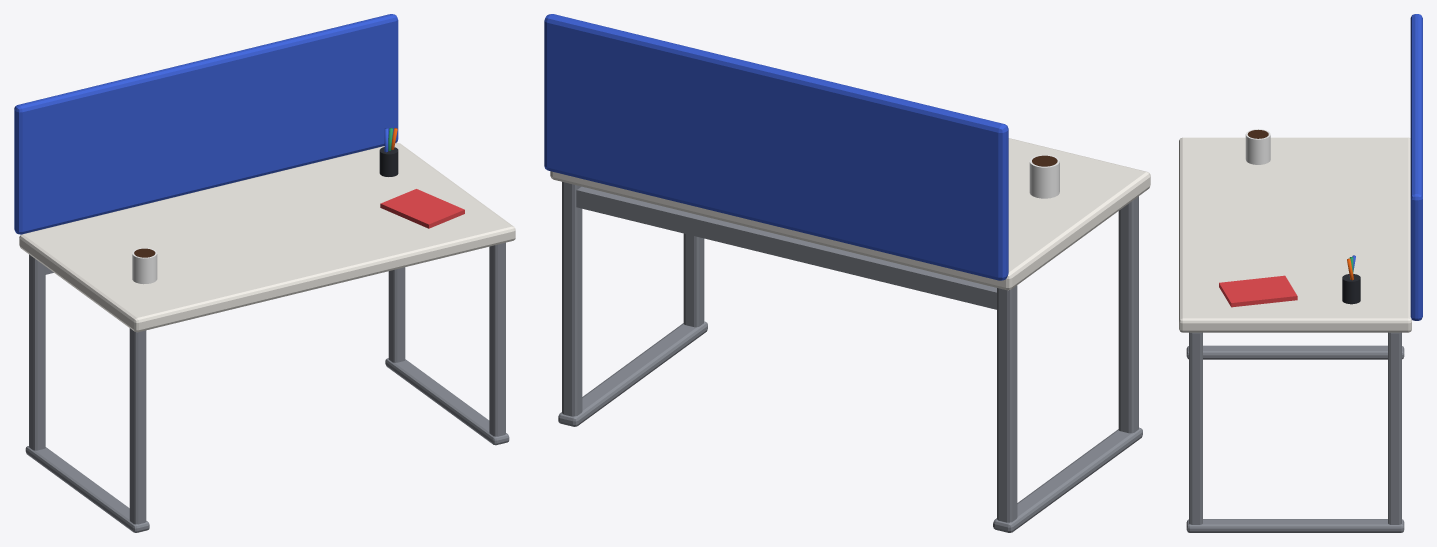
File: desk.glb
3 renders of one model, left to right at view 1: azimuth 30°, elevation 25°; view 2: azimuth 150°, elevation 25°; view 3: azimuth 270°, elevation 25°, orthographic. The views are drawn at different scales.
Visible parts, largest first — view 1: Desk; view 2: Desk; view 3: Desk.
Boxes of the visible parts, <box> form: Desk: <box>14,14,515,532</box>; Desk: <box>544,14,1150,532</box>; Desk: <box>1179,14,1422,532</box>.
Size of the model in its own units: 1.4 by 1.21 by 0.785.
